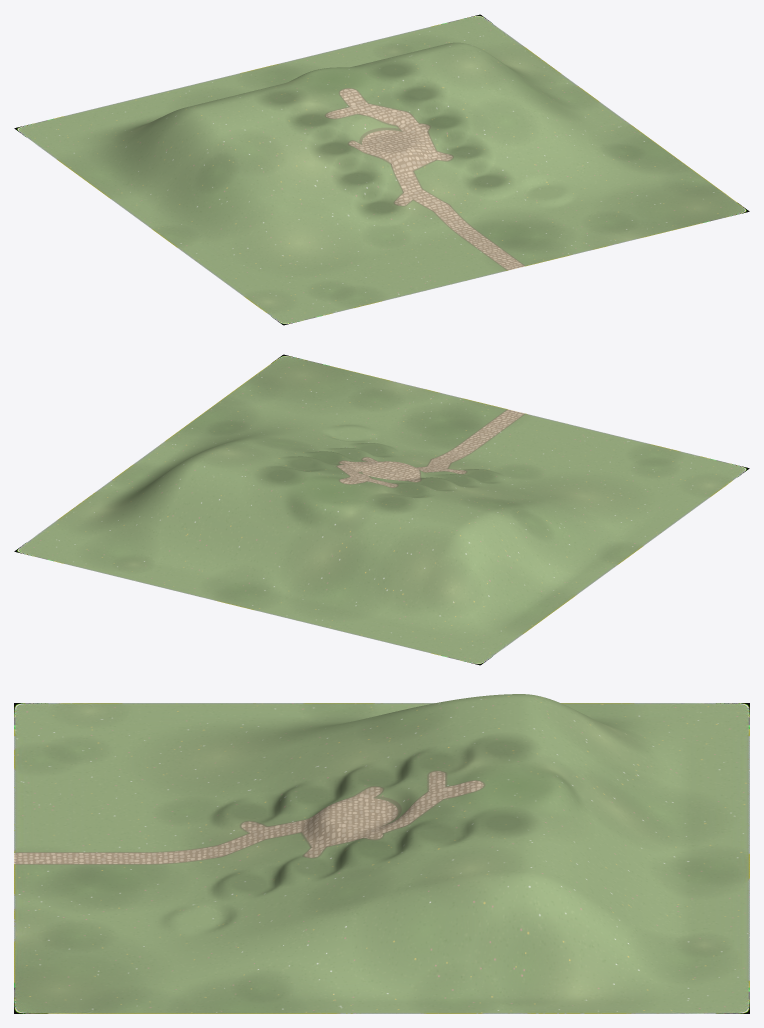
The model's file is terreno_oeste_san_antonio.fbx.
3 renders of one model, top to bottom at view 1: azimuth 30°, elevation 25°; view 2: azimuth 150°, elevation 25°; view 3: azimuth 270°, elevation 25°, orthographic. The views are drawn at different scales.
Parts seen in each view (by area): view 1: piso; view 2: piso; view 3: piso.
Boxes of the visible parts, x1=… form: piso: x1=14, y1=14, x2=749, y2=325; piso: x1=14, y1=354, x2=749, y2=665; piso: x1=14, y1=694, x2=749, y2=1013.
Bounding box in the file's own units: 10000 × 1100 × 10000.
1 material, 1 textured.
